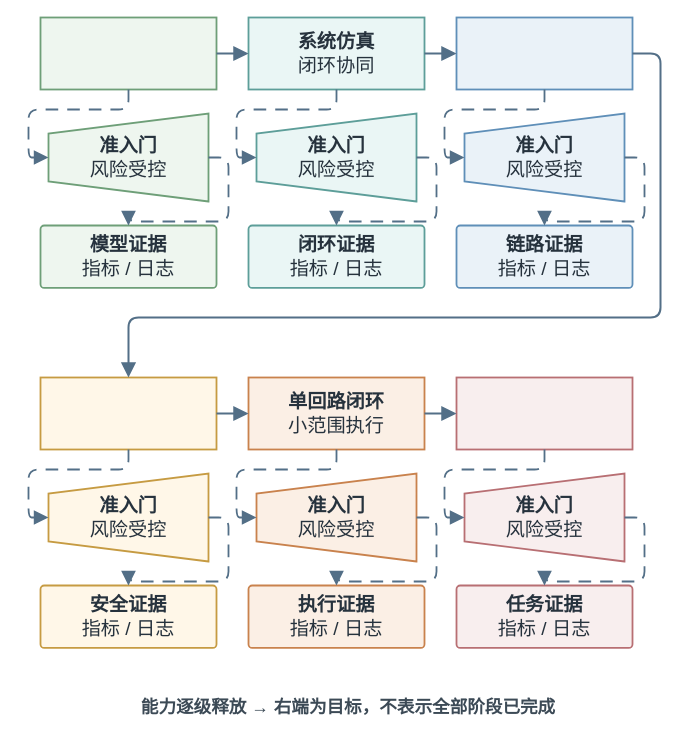
This 691x743 diagram has some shape labels left out. Each missing label, with the centre of its shape:
"全自主试验 准入目标" goes at (x=544, y=413).
"协议联调 通信边界" goes at (x=544, y=53).
"影子导航 不夺权观测" goes at (x=128, y=413).
"算法仿真 基本可控" goes at (x=128, y=53).
